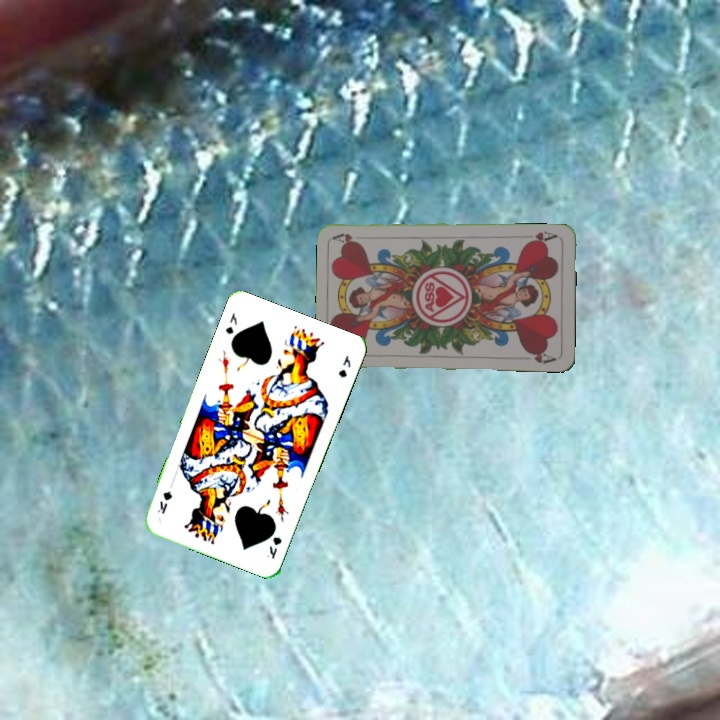GK: (265, 533, 284, 561), (221, 309, 240, 337)
HA: (522, 227, 560, 246)
